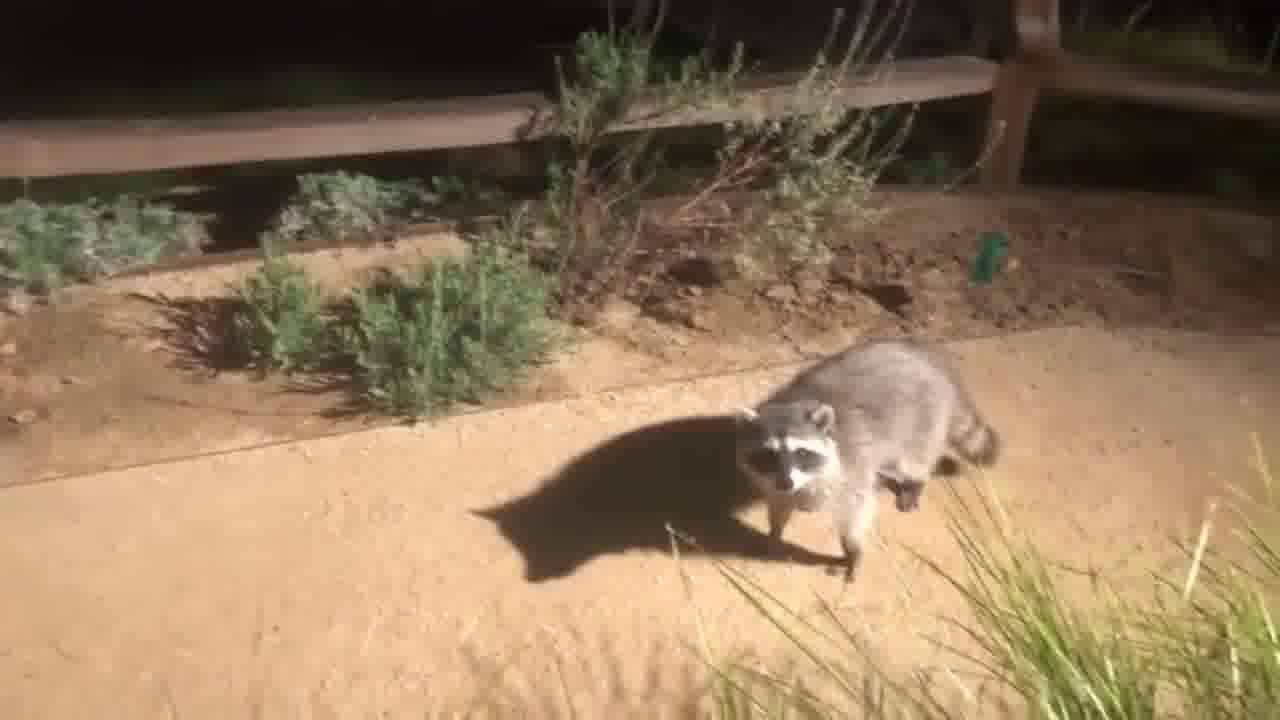raccoon: (725, 333, 1009, 579)
